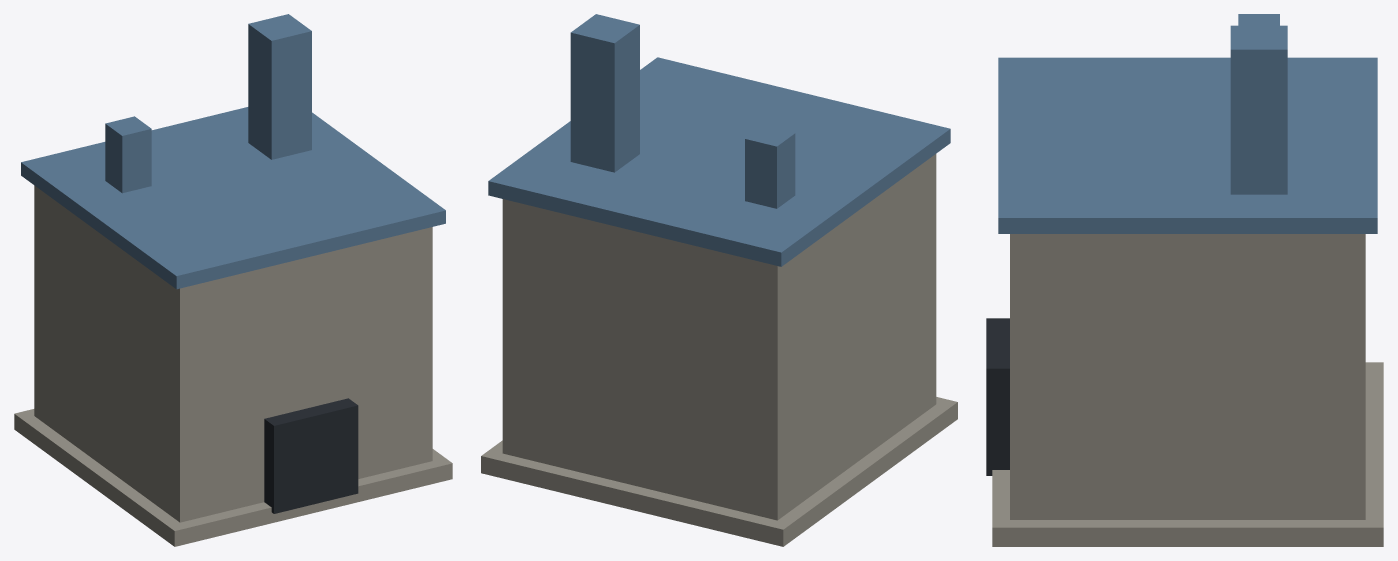
Rendered from bld_industrial_a06_lod2.glb.
The picture shows the model from 3 angles, left to right: view 1: azimuth 30°, elevation 25°; view 2: azimuth 150°, elevation 25°; view 3: azimuth 270°, elevation 25°; orthographic projection. The views are drawn at different scales.
Parts seen in each view (by area): view 1: body; view 2: body; view 3: body.
Boxes of the visible parts, bbox=[...] form: body: bbox=[14, 14, 452, 546]; body: bbox=[481, 14, 957, 546]; body: bbox=[986, 14, 1383, 546].
Bounding box in the file's own units: 6.6 × 8.78 × 6.7.
